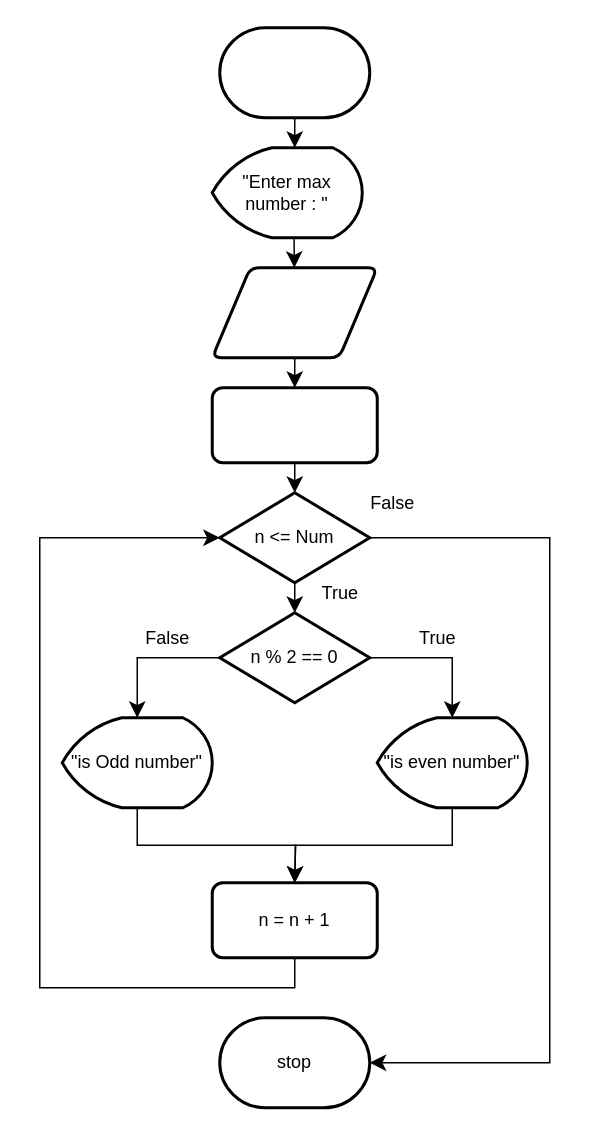
The diagram is 591 pixels wide and 1134 high, and some of its shapes have lost their labels. The centre of each missing label's shape, as x and y in pixels:
n = 1: the point at 294,425
Read Num: the point at 294,312
start: the point at 294,72
